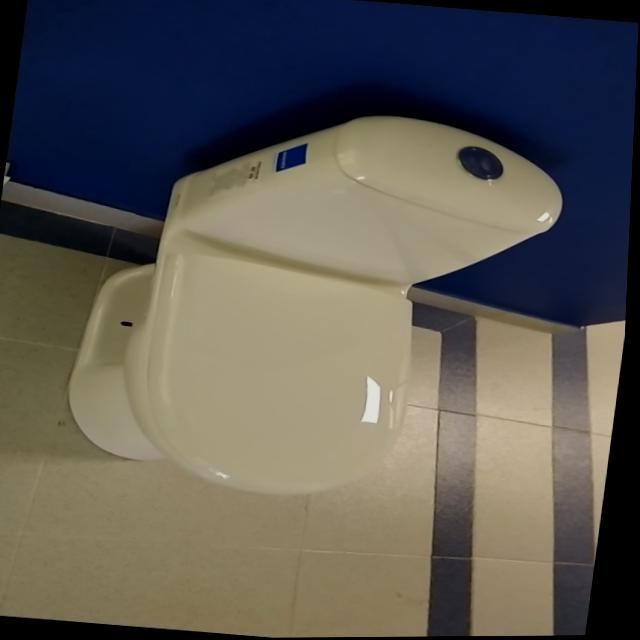toilet: (59, 89, 576, 519)
